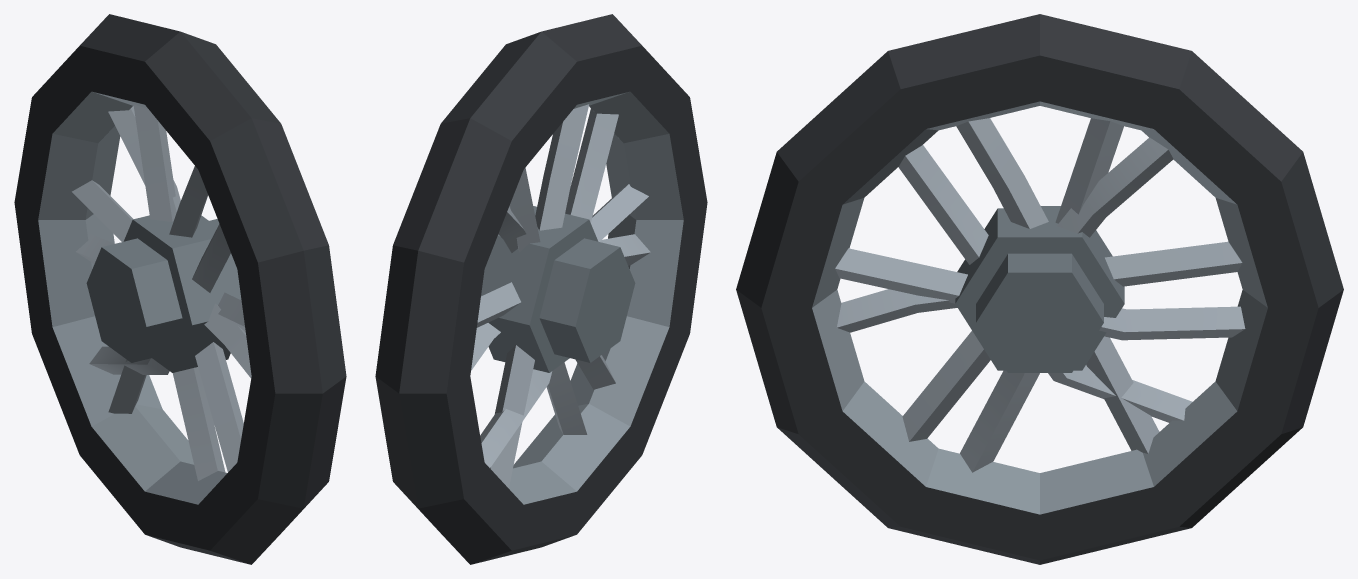
Rendered from SM_Prop_Cart_Metal_Wheel_l.fbx.
The picture shows the model from 3 angles, left to right: view 1: azimuth 30°, elevation 25°; view 2: azimuth 150°, elevation 25°; view 3: azimuth 270°, elevation 25°; orthographic projection. The views are drawn at different scales.
Parts seen in each view (by area): view 1: SM_Prop_Cart_Metal_Wheel_l; view 2: SM_Prop_Cart_Metal_Wheel_l; view 3: SM_Prop_Cart_Metal_Wheel_l.
Boxes of the visible parts, x1,y1,x2,y2 form: SM_Prop_Cart_Metal_Wheel_l: (14,14,346,564); SM_Prop_Cart_Metal_Wheel_l: (375,14,707,564); SM_Prop_Cart_Metal_Wheel_l: (736,14,1343,564).
Size of the model in its own units: 17.76 by 68.5 by 68.5.
